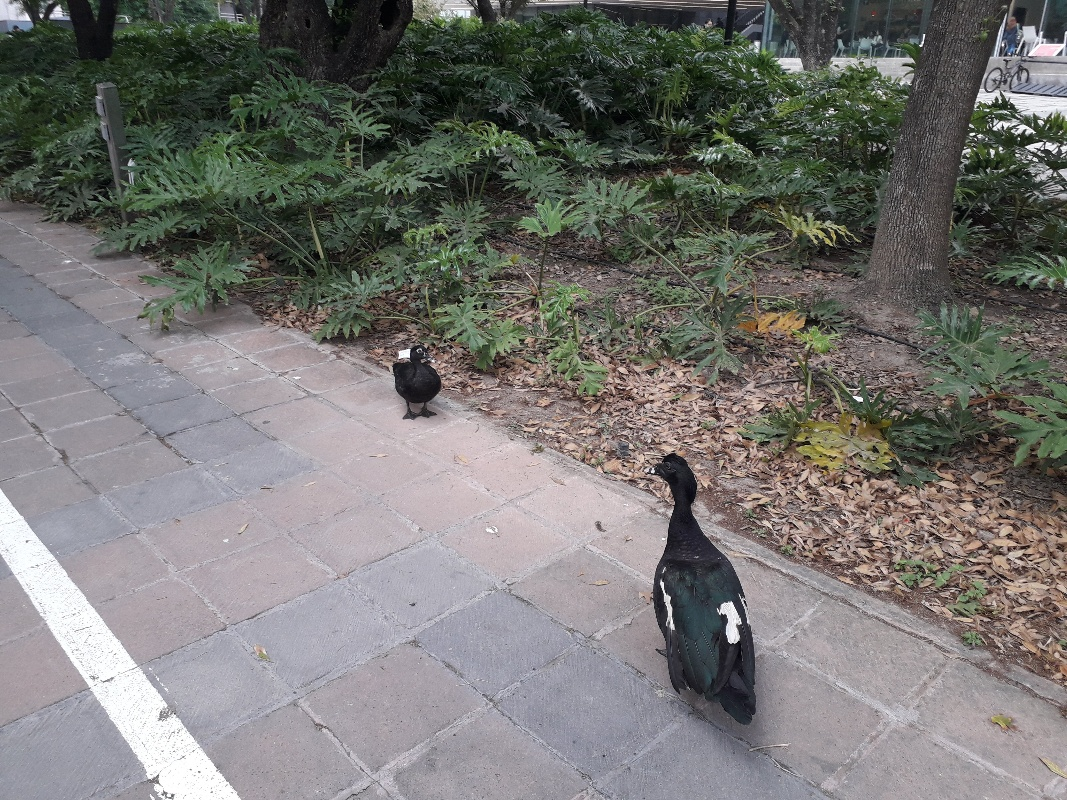pato: (639, 454, 777, 723), (391, 345, 455, 428)
